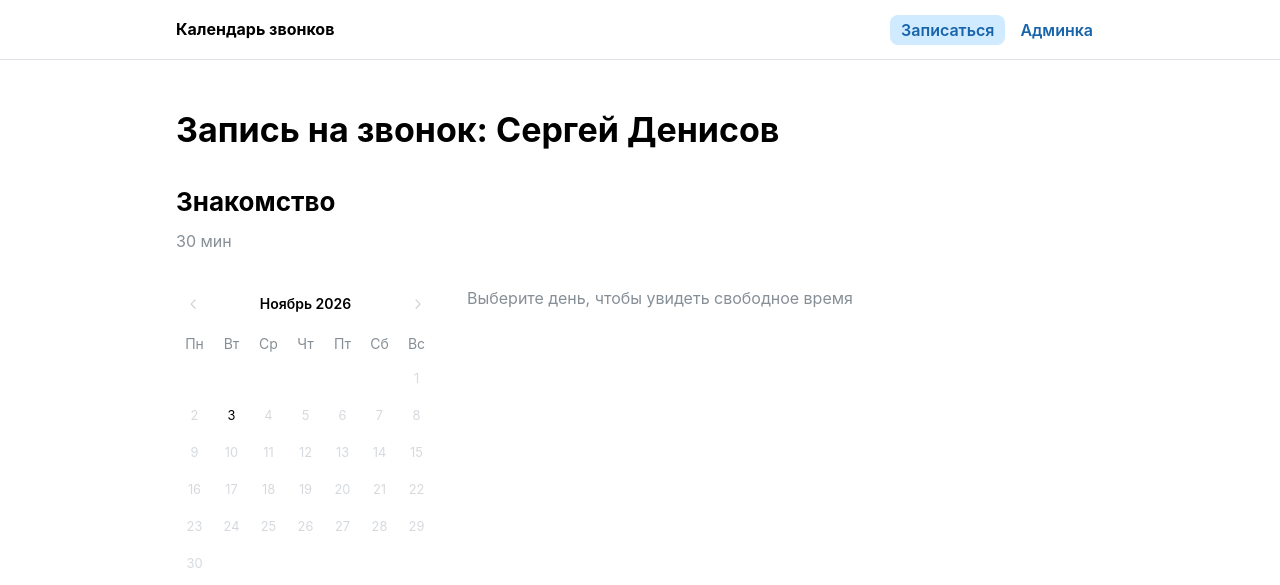
shows the Free Slots of the chosen day in Moscow time
Step 1. Click the button named "3 ноября 2026" → point(232, 416), box x1=214 y1=398 x2=250 y2=434
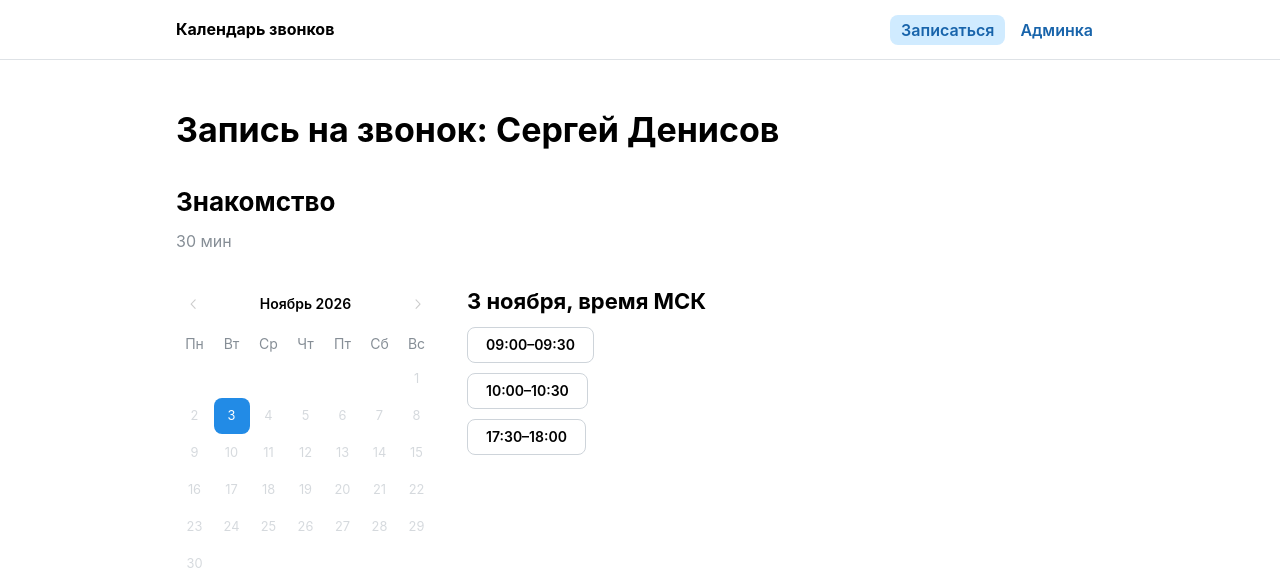
expect the list items read "09:00–09:30", "10:00–10:30", "17:30–18:00", in this order: met, box x1=467 y1=327 x2=594 y2=363; x1=467 y1=373 x2=588 y2=409; x1=467 y1=419 x2=586 y2=455
